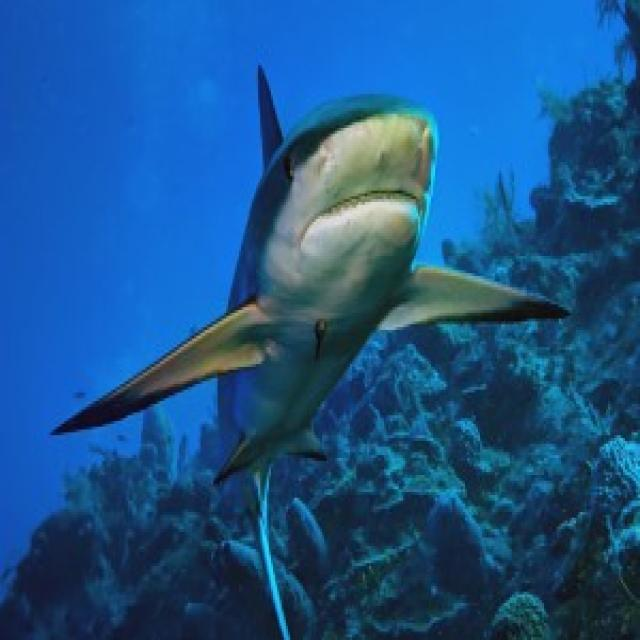Shark: (51, 42, 574, 498)
